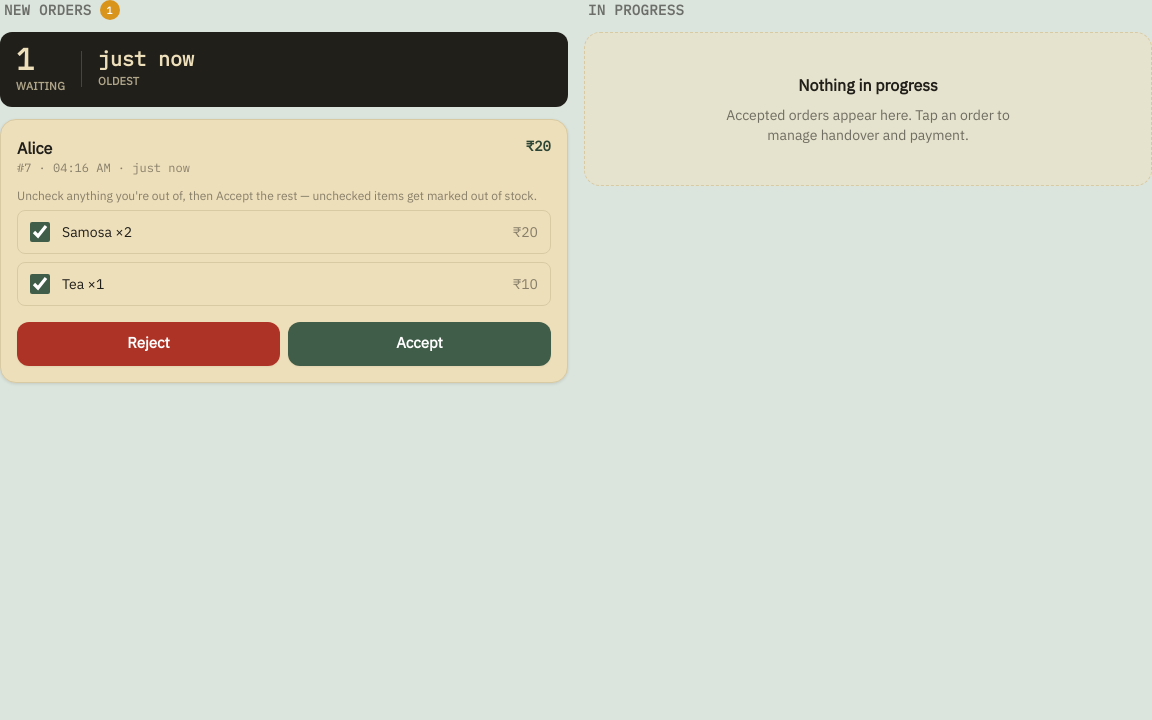
Test: Shop Accept/Reject do not flag stock when the primary action itself fails (STATUS.md § 9.6 U2) › does not mark the flagged item out of stock when reject itself fails
This screenshot has width=1152, height=720.
Expected: the text "Samosa ×2" is shown, [62,222,132,240]
// Open the reject dialog and tick the item as unavailable.
Click the button "Reject": (148, 344) [17,322,280,366]
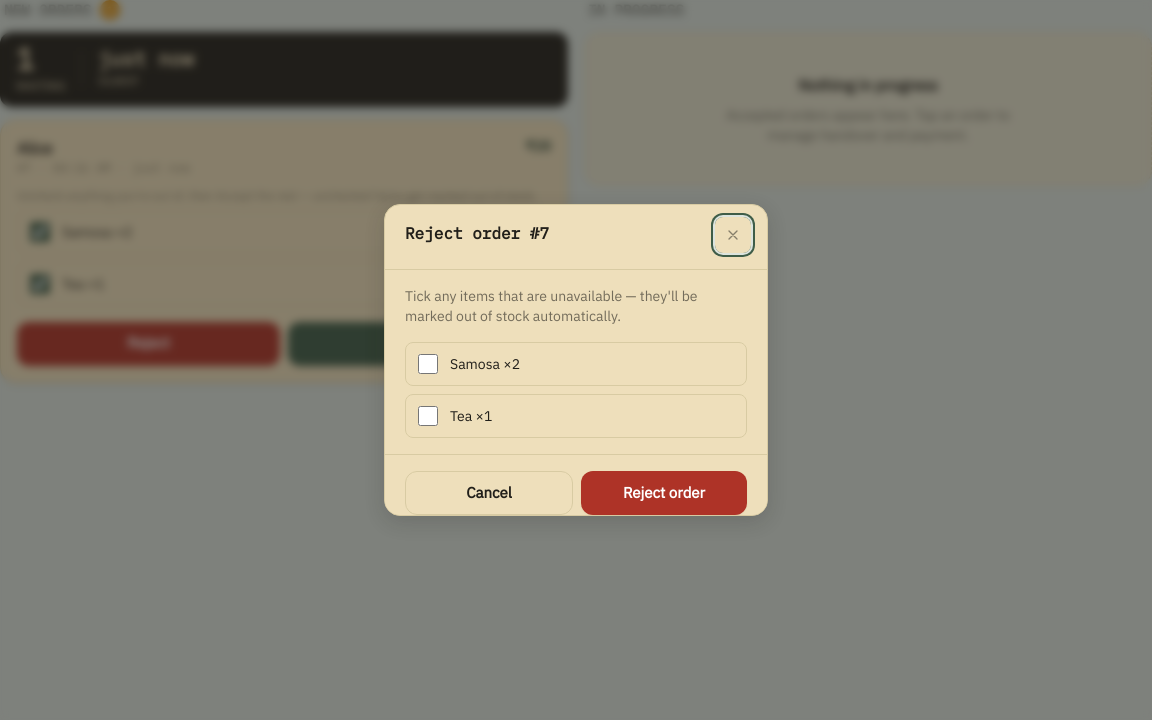
Click the checkbox labelled "Samosa ×2": (428, 364) [418,354,438,374]
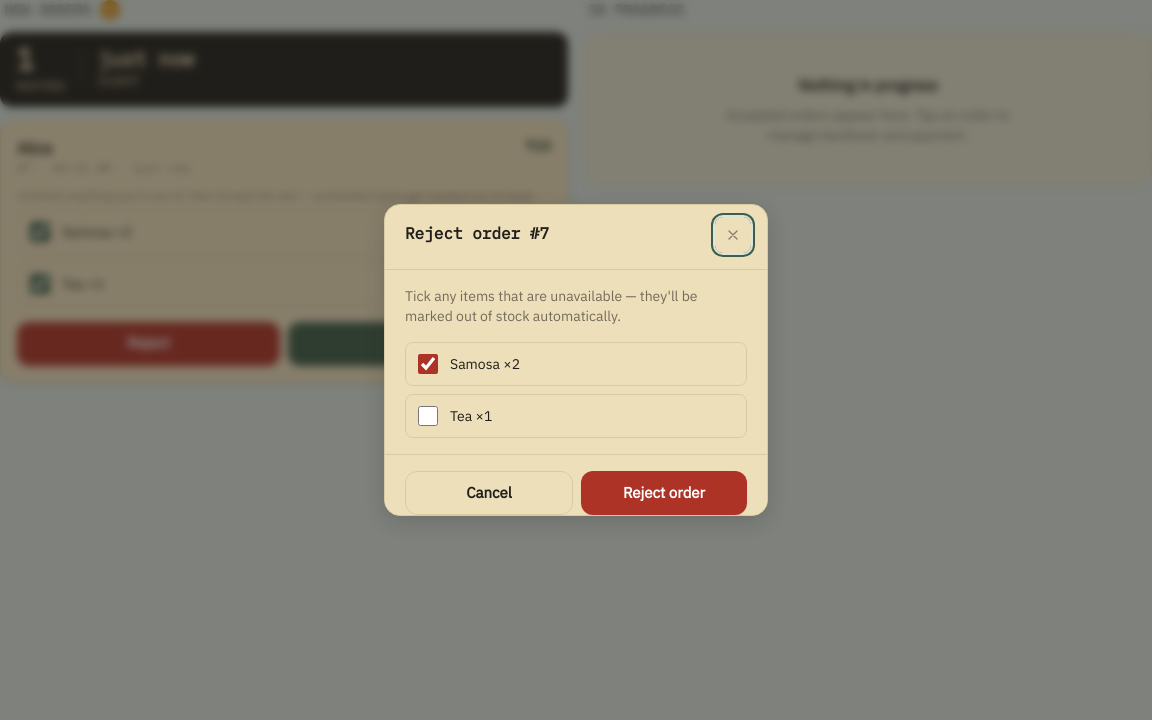
Click the button "Reject order": (664, 493) [581,471,747,515]
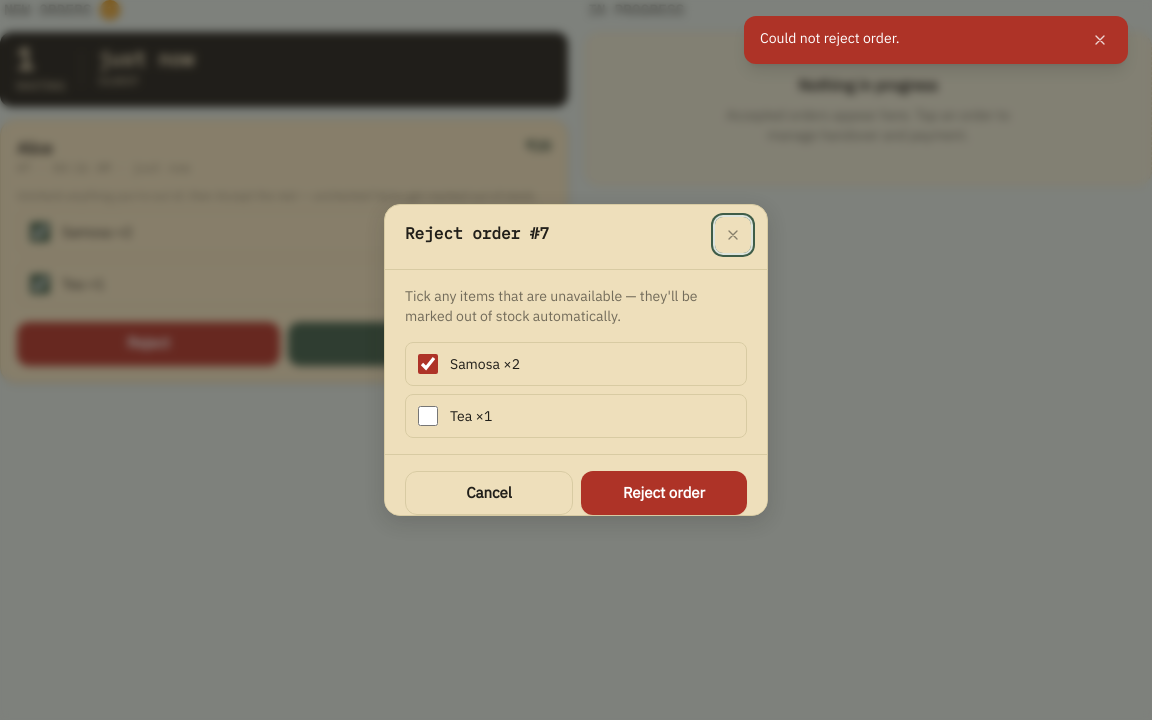
Expected: the message "Could not reject order." is shown, [744,16,1128,64]
